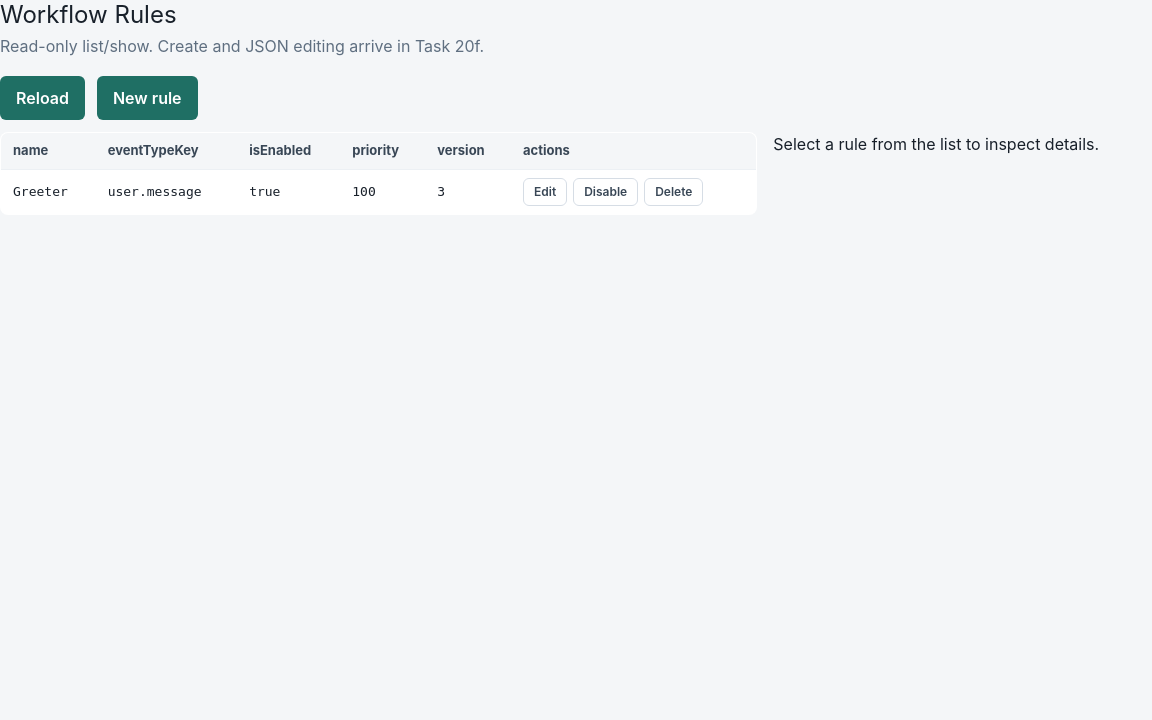
Test: RulesView › should require confirm dialog before issuing delete
Click the button with test id "delete-rule-a" at (674, 192), box [644, 178, 703, 206]
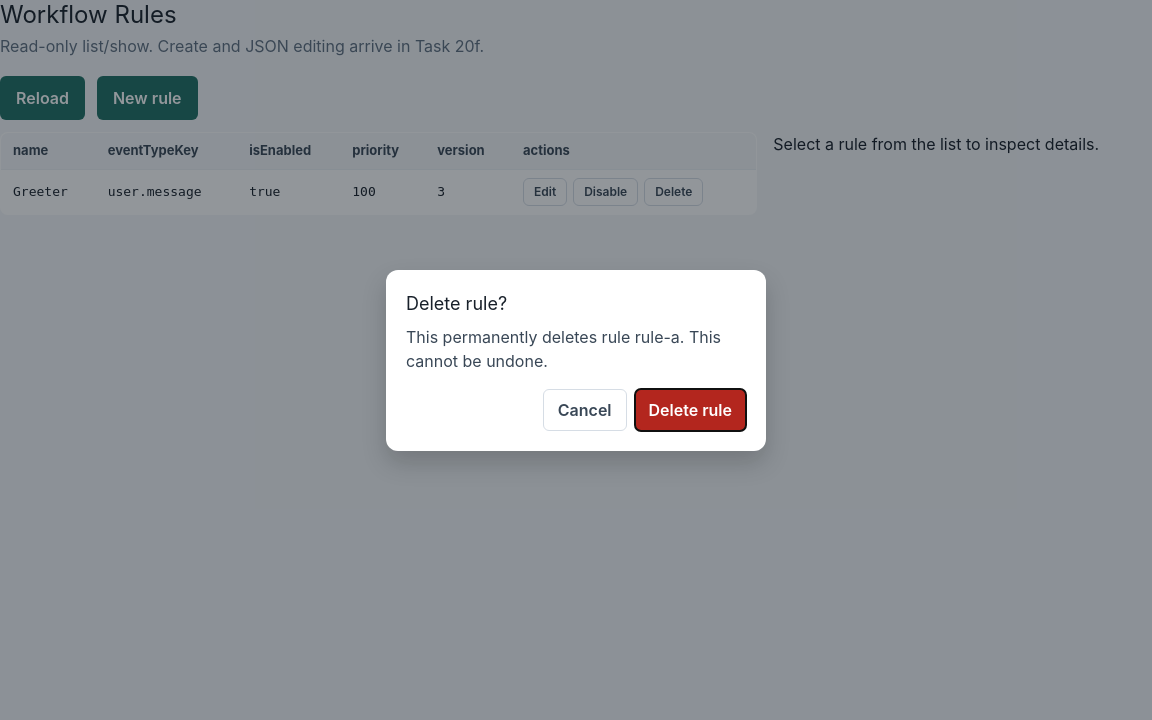
Expected: the dialog is shown
Click the button with class "danger-button" at (690, 410), box [634, 388, 746, 430]
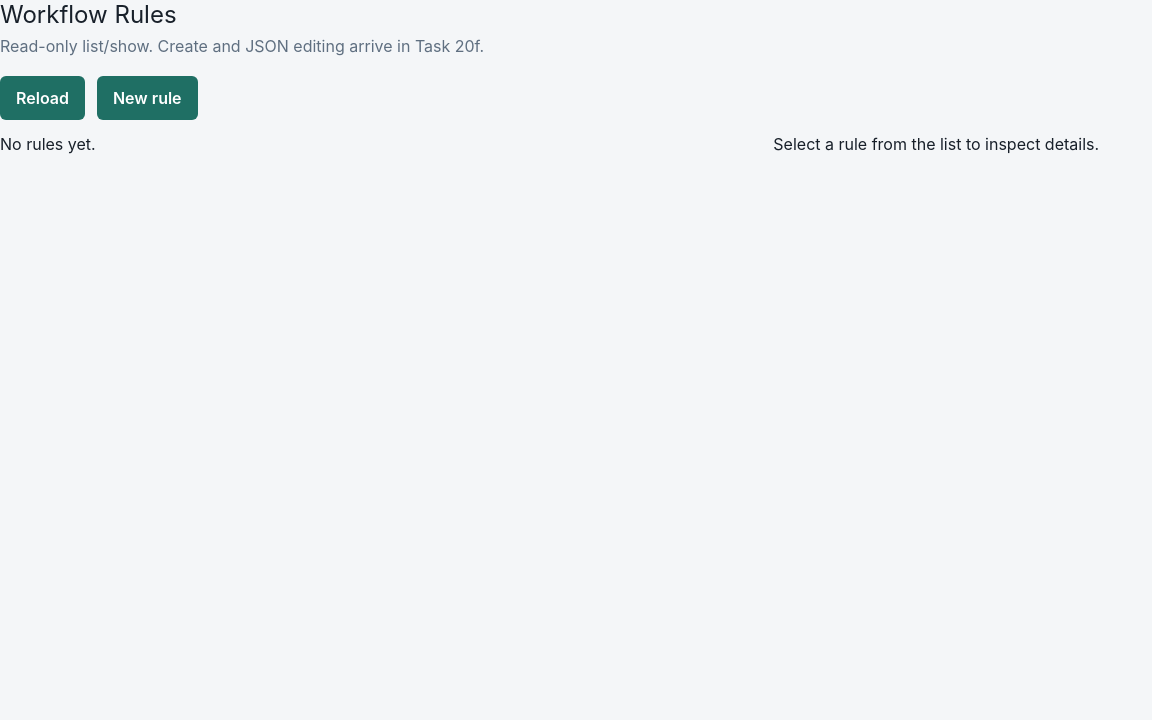
Expected: the message "No rules yet." is shown, [0, 134, 96, 154]
